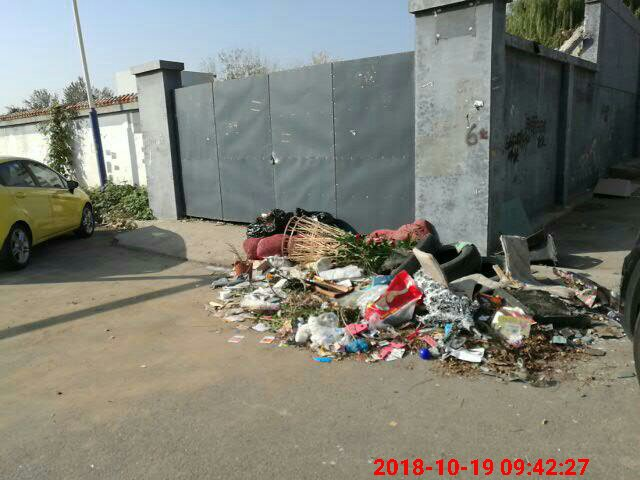trash: (199, 172, 630, 405)
